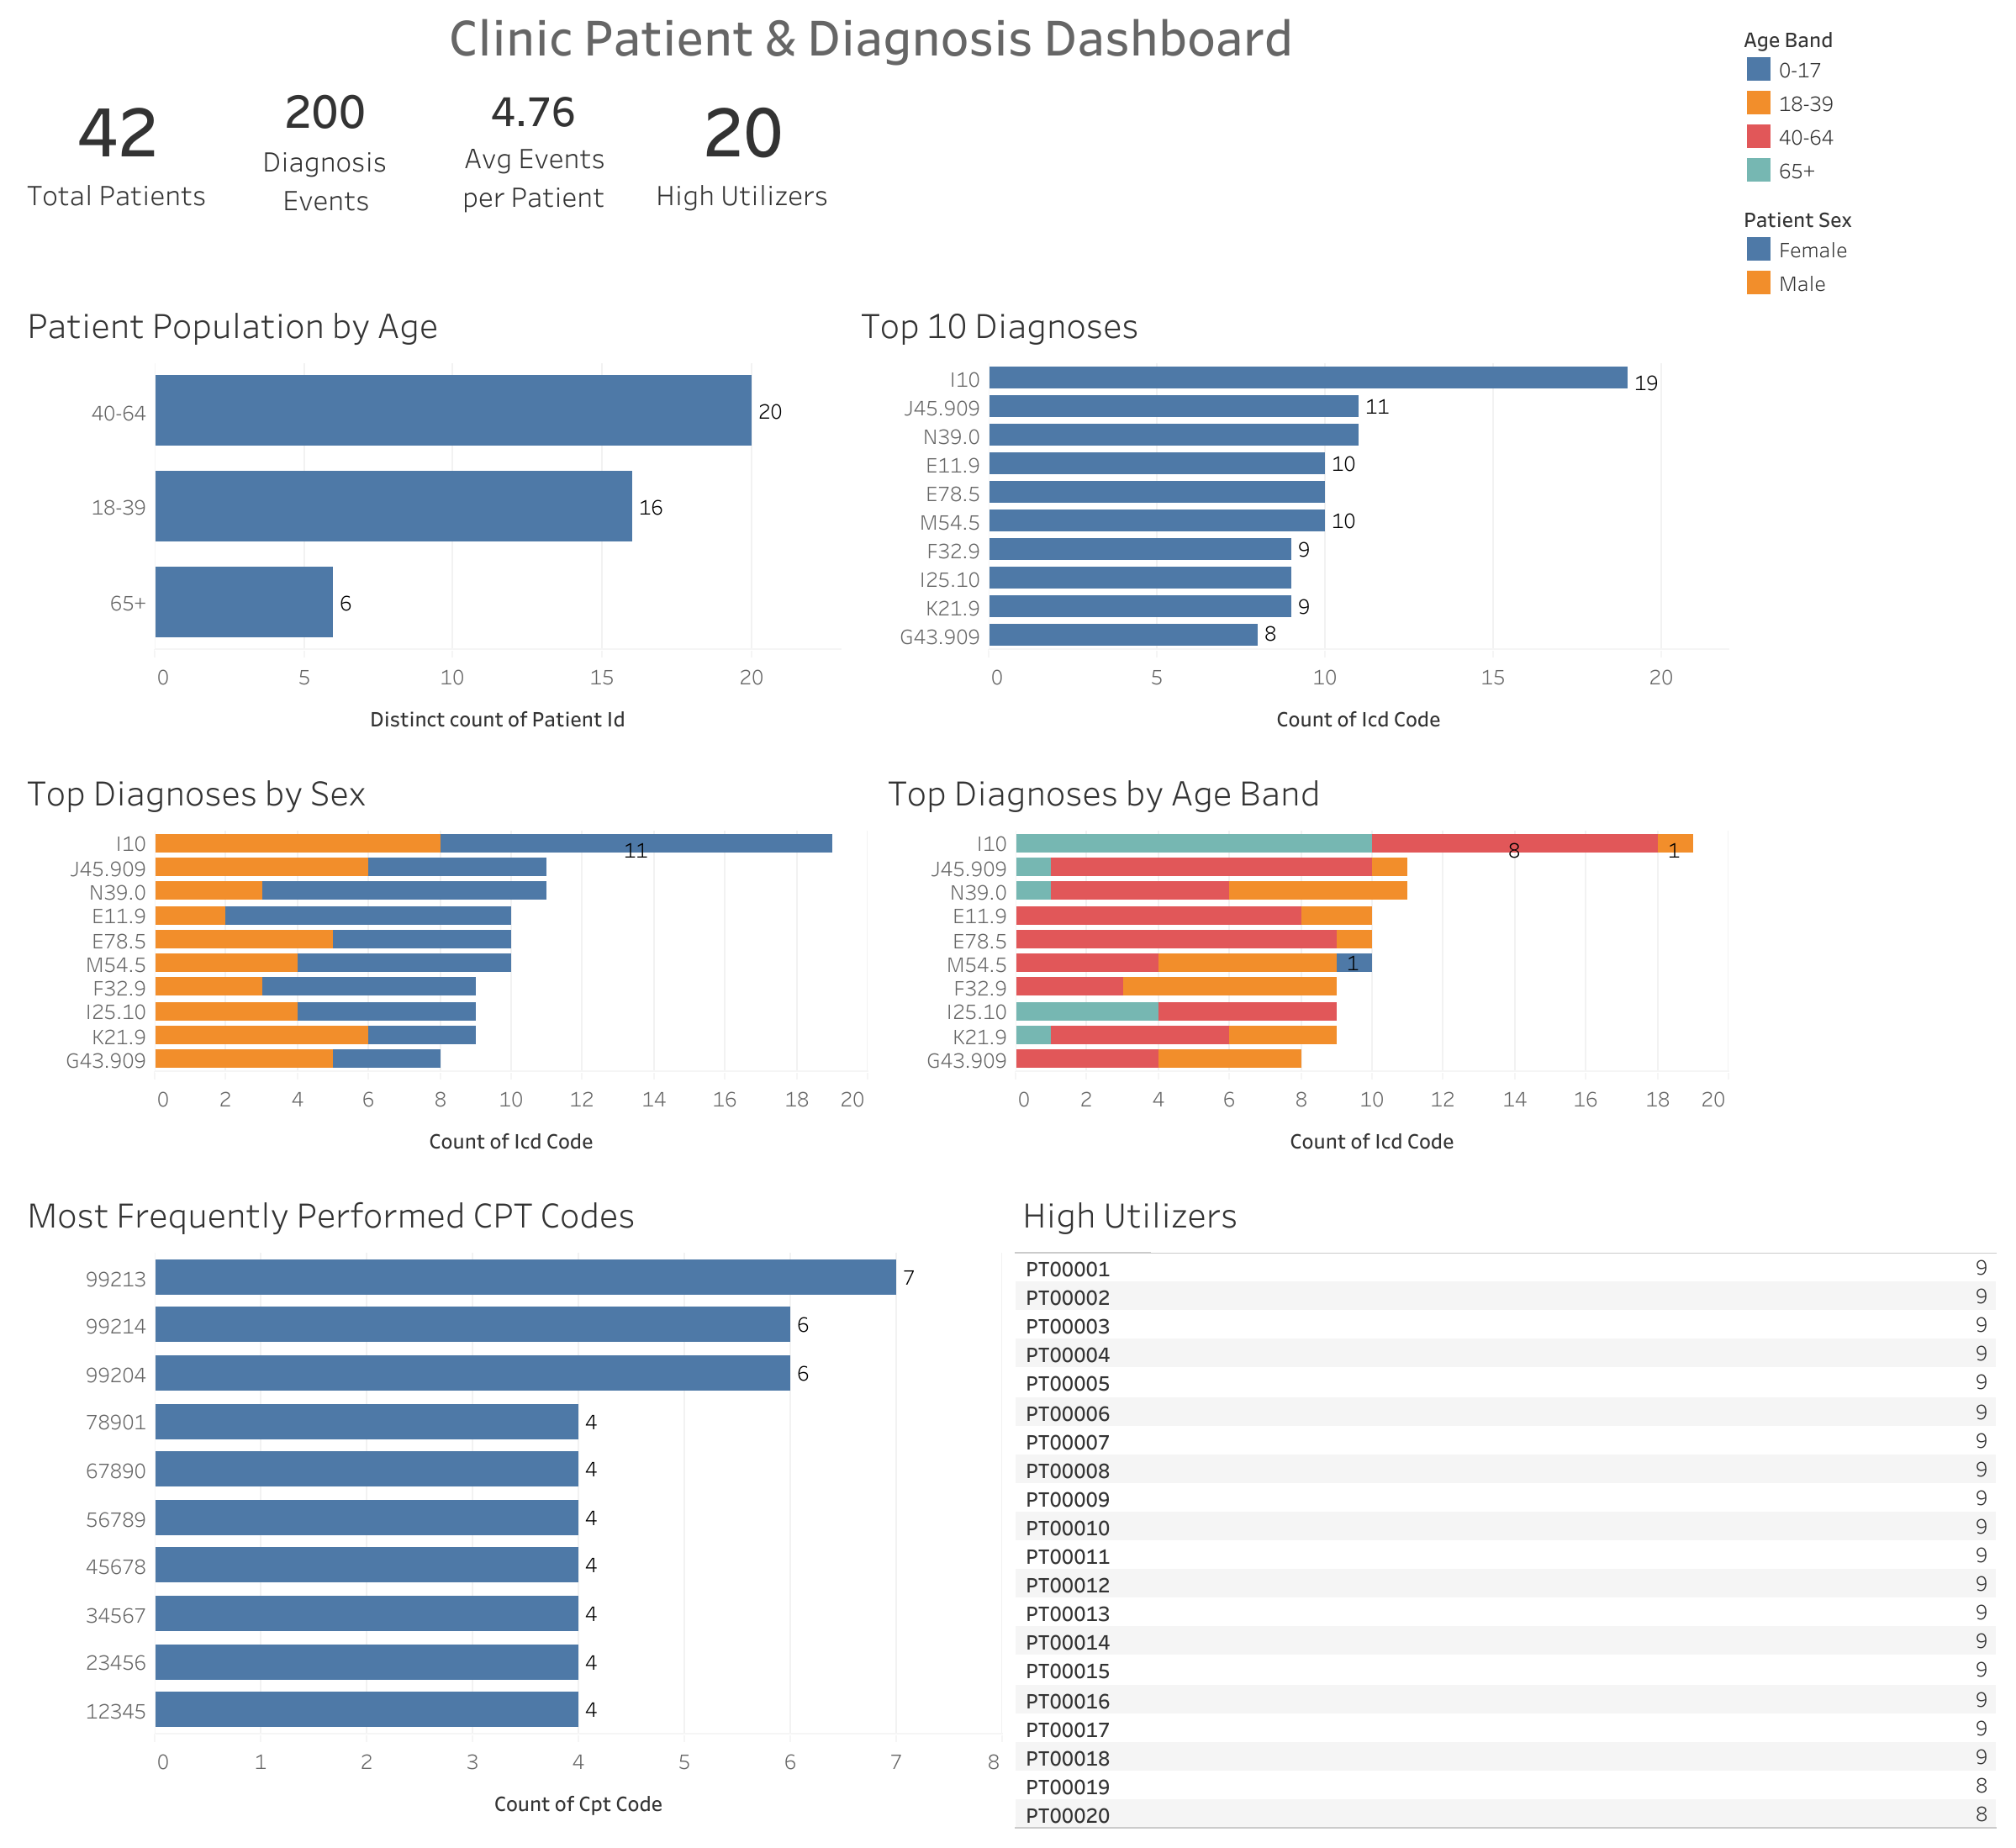

What the dashboard file says about the page in this screenshot:
{"tool":"tableau","page":{"name":"Clinic Patient & Diagnosis Dashboard","canvas":[1200,1100],"ordinal":0},"visuals":[{"type":"text","box":[6,4,1024,34]},{"type":"worksheet","title":"KPI - Total Patients","mark":"Automatic","box":[8,8,124,161]},{"type":"worksheet","title":"KPI - Diagnosis Events","mark":"Automatic","box":[132,8,124,161]},{"type":"worksheet","title":"KPI - Average Visits","mark":"Automatic","box":[255.9,8,124,161]},{"type":"worksheet","title":"KPI - High Utilizers","mark":"Automatic","box":[379.9,8,124,161]},{"type":"legend","title":"Diagnoses by Age Band","param":"[federated.1h0jcd31dlj6pj1gqoqra1qpnxfk].[none:age_band:nk]","box":[1032,8,160,106]},{"type":"legend","title":"Diagnoses by Sex","param":"[federated.1h0jcd31dlj6pj1gqoqra1qpnxfk].[none:patient_sex:nk]","box":[1032,114,160,66]},{"type":"worksheet","title":"Patient Population by Age","mark":"Bar","rows":["age_band"],"cols":["patient_id"],"box":[8,169,495.8,278]},{"type":"worksheet","title":"Top 10 Diagnoses","mark":"Automatic","rows":["icd_code"],"cols":["icd_code"],"box":[503.8,169,528.2,278]},{"type":"worksheet","title":"Diagnoses by Sex","mark":"Bar","rows":["icd_code"],"cols":["icd_code"],"box":[8,447,512,251]},{"type":"worksheet","title":"Diagnoses by Age Band","mark":"Automatic","rows":["icd_code"],"cols":["icd_code"],"box":[520,447,512,251]},{"type":"worksheet","title":"Top CPT Codes","mark":"Automatic","rows":["cpt_code"],"cols":["cpt_code"],"box":[8,698,592,394]},{"type":"worksheet","title":"High Utilizers","mark":"Automatic","rows":["patient_id"],"box":[600,698,592,394]}]}

Visuals, with their boxes in screenshot pixels (x1, y1, x2, y2), scaled from the page's 1200x1100 canvas onto the 2016x1848 screenshot:
text: x1=10 y1=7 x2=1730 y2=64
"KPI - Total Patients" worksheet: x1=13 y1=13 x2=222 y2=284
"KPI - Diagnosis Events" worksheet: x1=222 y1=13 x2=430 y2=284
"KPI - Average Visits" worksheet: x1=430 y1=13 x2=638 y2=284
"KPI - High Utilizers" worksheet: x1=638 y1=13 x2=847 y2=284
"Diagnoses by Age Band" legend: x1=1734 y1=13 x2=2003 y2=192
"Diagnoses by Sex" legend: x1=1734 y1=192 x2=2003 y2=303
"Patient Population by Age" worksheet (Bar marks): x1=13 y1=284 x2=847 y2=751
"Top 10 Diagnoses" worksheet: x1=847 y1=284 x2=1734 y2=751
"Diagnoses by Sex" worksheet (Bar marks): x1=13 y1=751 x2=873 y2=1173
"Diagnoses by Age Band" worksheet: x1=873 y1=751 x2=1734 y2=1173
"Top CPT Codes" worksheet: x1=13 y1=1173 x2=1008 y2=1835
"High Utilizers" worksheet: x1=1008 y1=1173 x2=2003 y2=1835
